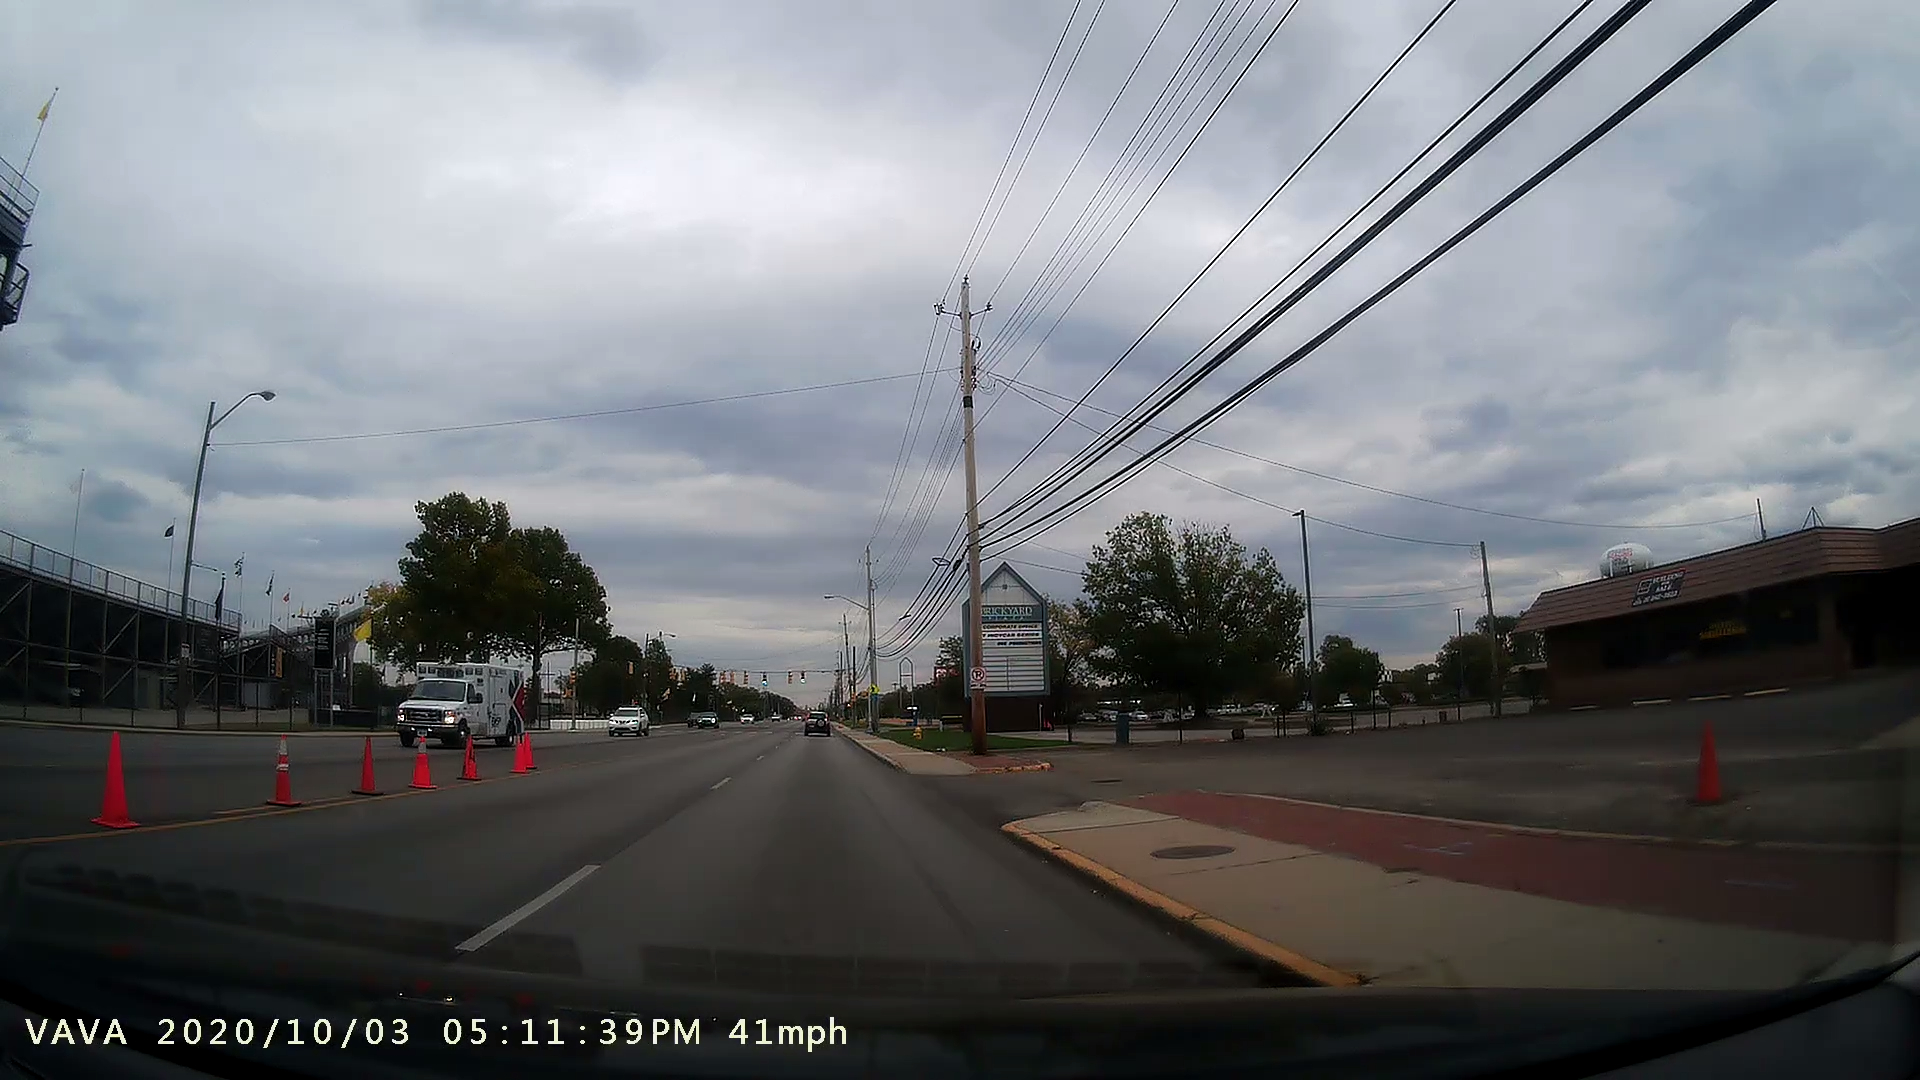const_cone: (74, 711, 164, 841), (1659, 708, 1753, 828), (251, 705, 316, 818), (345, 717, 394, 810), (400, 725, 451, 802)
